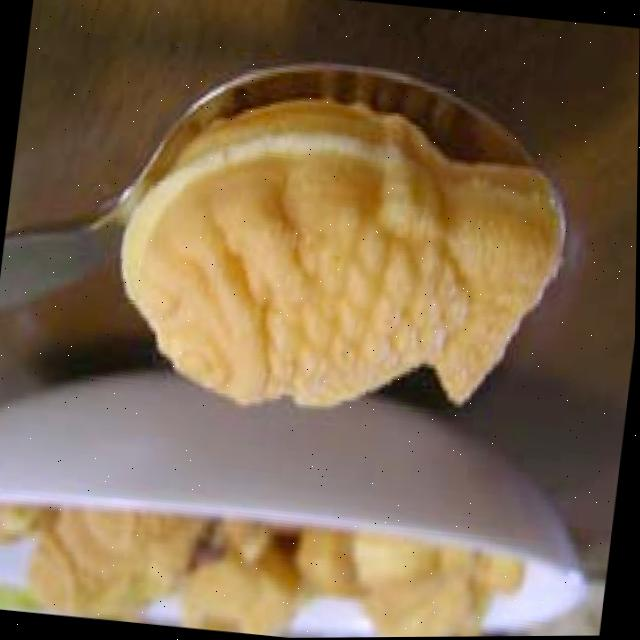熟制海鲜: (98, 87, 583, 448)
